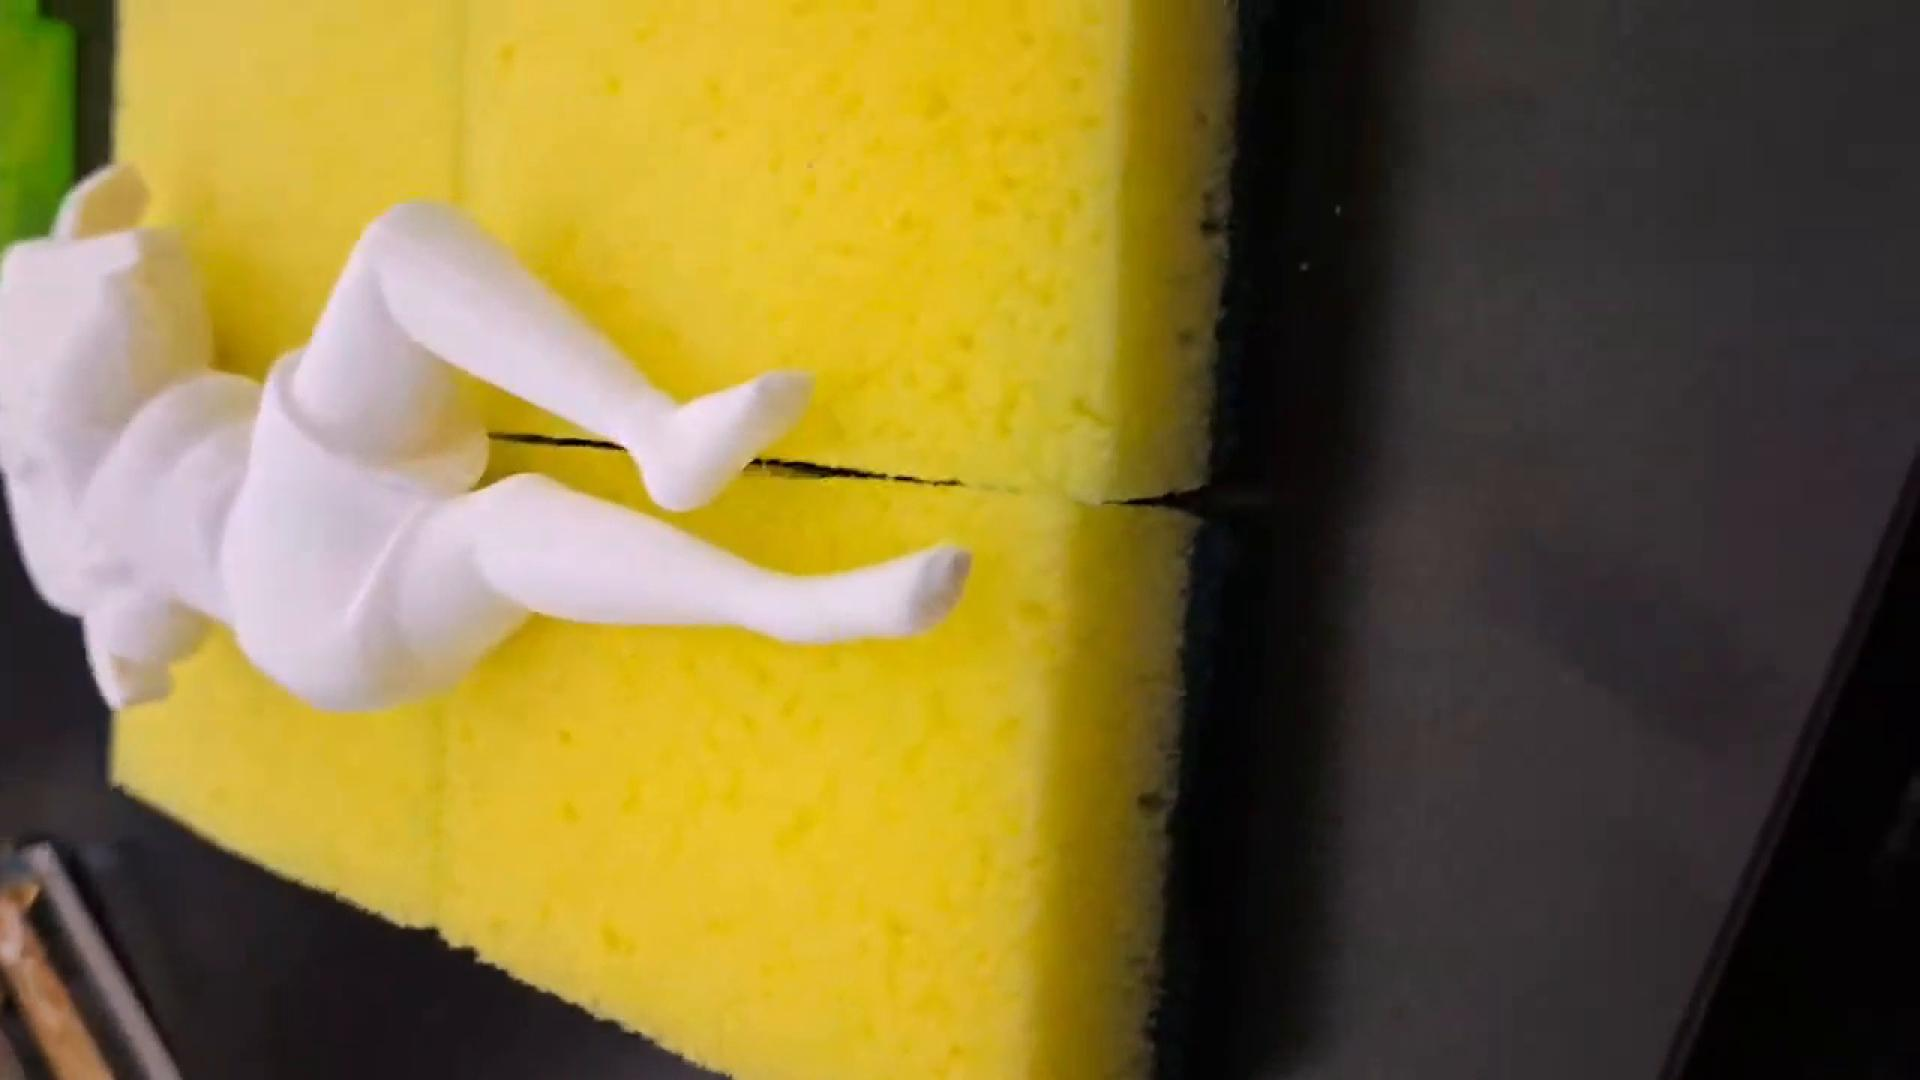Good-style: (3, 164, 971, 712)
